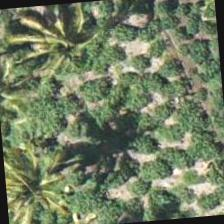Kelapa_Sawit: (143, 101, 223, 200), (2, 139, 78, 223)
